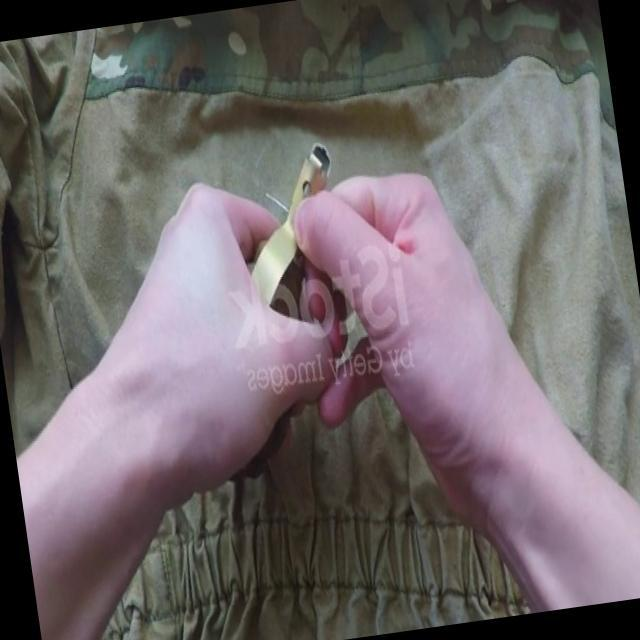grenade: (201, 144, 371, 468)
